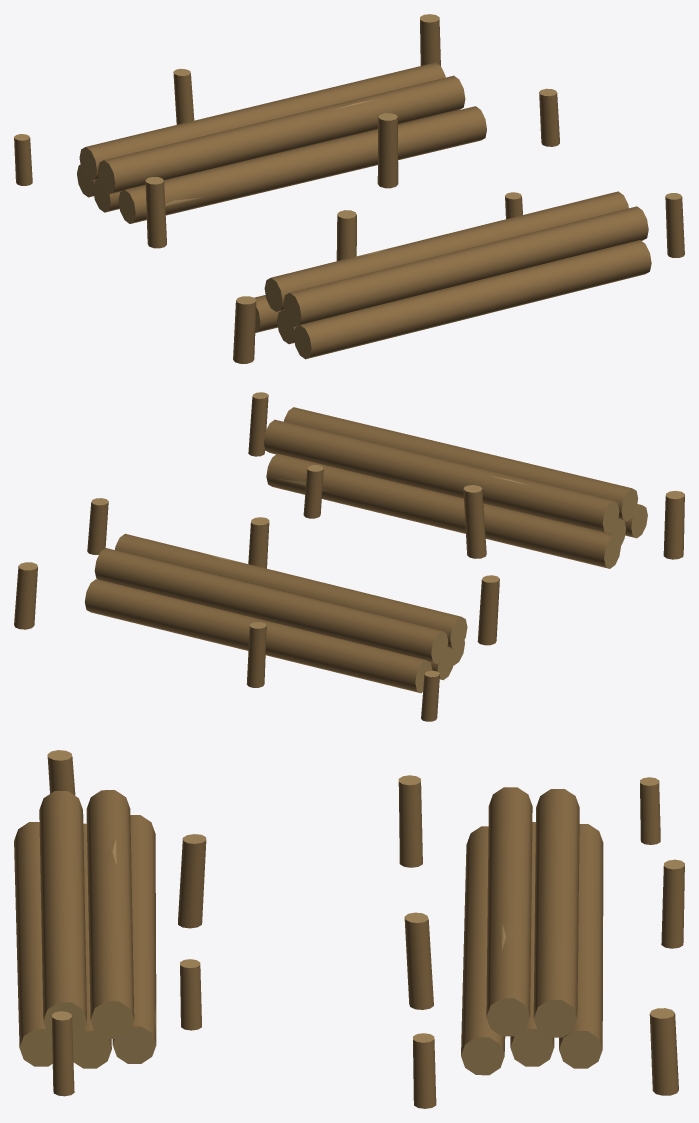
The model's file is Resource_PineTree_Group_Cut.glb.
3 renders of one model, top to bottom at view 1: azimuth 30°, elevation 25°; view 2: azimuth 150°, elevation 25°; view 3: azimuth 270°, elevation 25°, orthographic. The views are drawn at different scales.
Visible parts, largest first — view 1: Resource_PineTree_Group_Cut; view 2: Resource_PineTree_Group_Cut; view 3: Resource_PineTree_Group_Cut.
Part boxes in pixels (x1,y1,x2,y2): Resource_PineTree_Group_Cut: (14,14,684,363); Resource_PineTree_Group_Cut: (14,392,684,721); Resource_PineTree_Group_Cut: (14,750,684,1108).
Size of the model in its own units: 1.49 by 0.2116 by 1.48.
